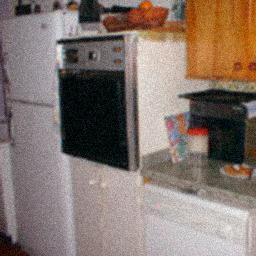Electrodomestico: (3, 18, 76, 255), (57, 41, 141, 171), (144, 185, 254, 255)
